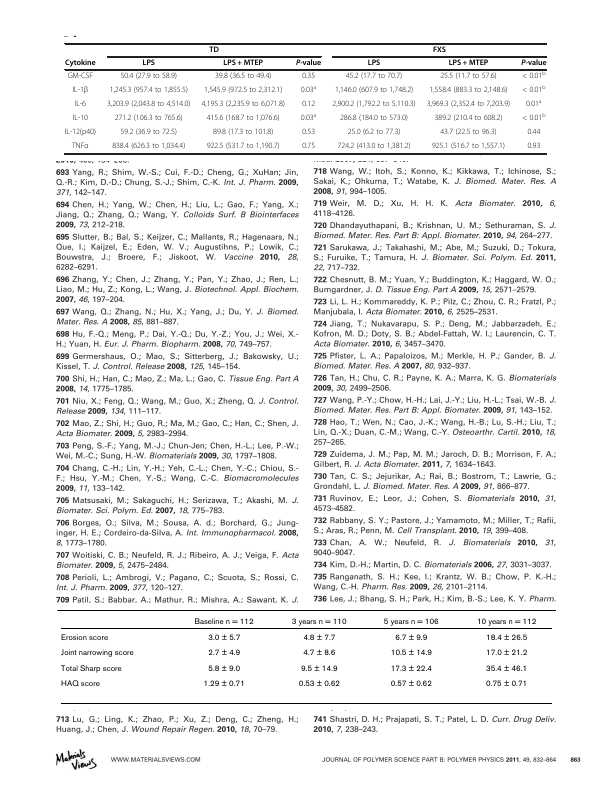borderless: (63, 42, 546, 153), (56, 608, 552, 703)
cell: (200, 100, 286, 110), (331, 100, 417, 110), (106, 100, 191, 110), (426, 100, 511, 110), (109, 86, 189, 96), (203, 86, 283, 96), (334, 86, 414, 96), (428, 86, 508, 96), (59, 649, 134, 659), (206, 114, 281, 124), (111, 142, 186, 152), (206, 142, 281, 152), (336, 142, 411, 152), (431, 142, 506, 152), (114, 114, 184, 124), (339, 114, 409, 124), (433, 114, 503, 124), (59, 664, 122, 674), (475, 617, 537, 627), (212, 128, 274, 138), (193, 617, 254, 627), (119, 72, 178, 82), (439, 72, 498, 82), (119, 128, 178, 138), (439, 128, 498, 138), (214, 72, 272, 82), (345, 72, 403, 82), (290, 617, 347, 627), (382, 617, 439, 627), (347, 128, 401, 138), (59, 633, 108, 643), (484, 633, 528, 643), (484, 649, 528, 659), (484, 664, 528, 674), (484, 680, 528, 690), (389, 649, 432, 659), (389, 664, 432, 674), (202, 680, 245, 690), (297, 680, 340, 690), (389, 680, 432, 690), (222, 59, 264, 69), (59, 680, 100, 690), (448, 59, 489, 69), (299, 664, 338, 674), (207, 633, 241, 643), (302, 633, 336, 643), (394, 633, 428, 643), (207, 649, 241, 659), (302, 649, 336, 659), (207, 664, 241, 674), (64, 128, 97, 138), (64, 59, 96, 69), (521, 71, 546, 82), (521, 85, 546, 96), (521, 113, 546, 124), (295, 59, 322, 69), (520, 59, 547, 69), (67, 72, 94, 82), (300, 85, 317, 96), (525, 99, 542, 110), (300, 113, 317, 124), (71, 86, 89, 96), (71, 142, 89, 152), (72, 114, 89, 124), (141, 59, 156, 69), (301, 72, 316, 82), (301, 100, 316, 110), (301, 128, 316, 138), (526, 128, 541, 138), (301, 142, 316, 152), (526, 142, 541, 152), (367, 59, 381, 69), (73, 100, 87, 110), (432, 46, 447, 55), (208, 46, 220, 55)
